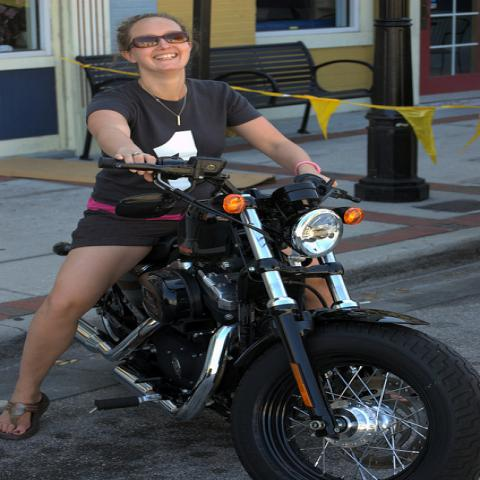motorcycle: (81, 158, 466, 471)
